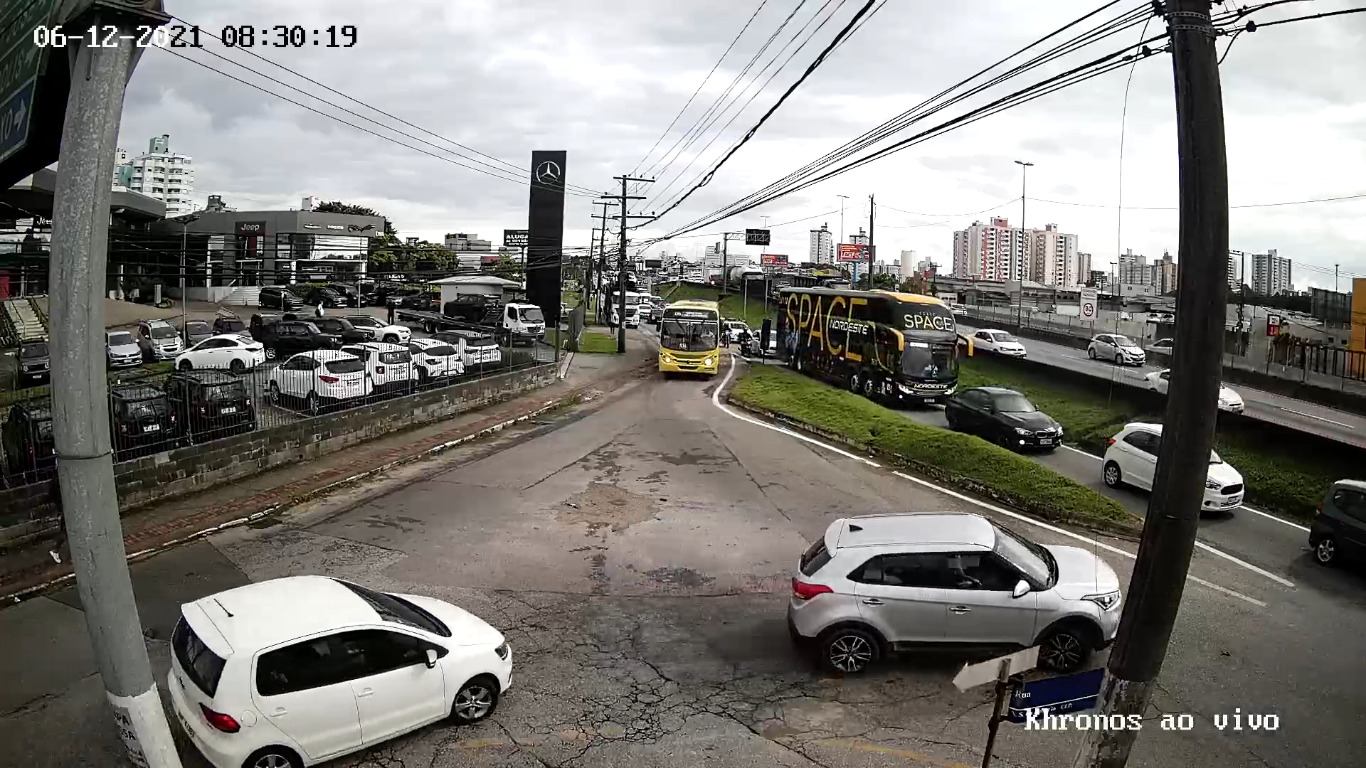car: (166, 576, 512, 768), (789, 510, 1121, 678)
